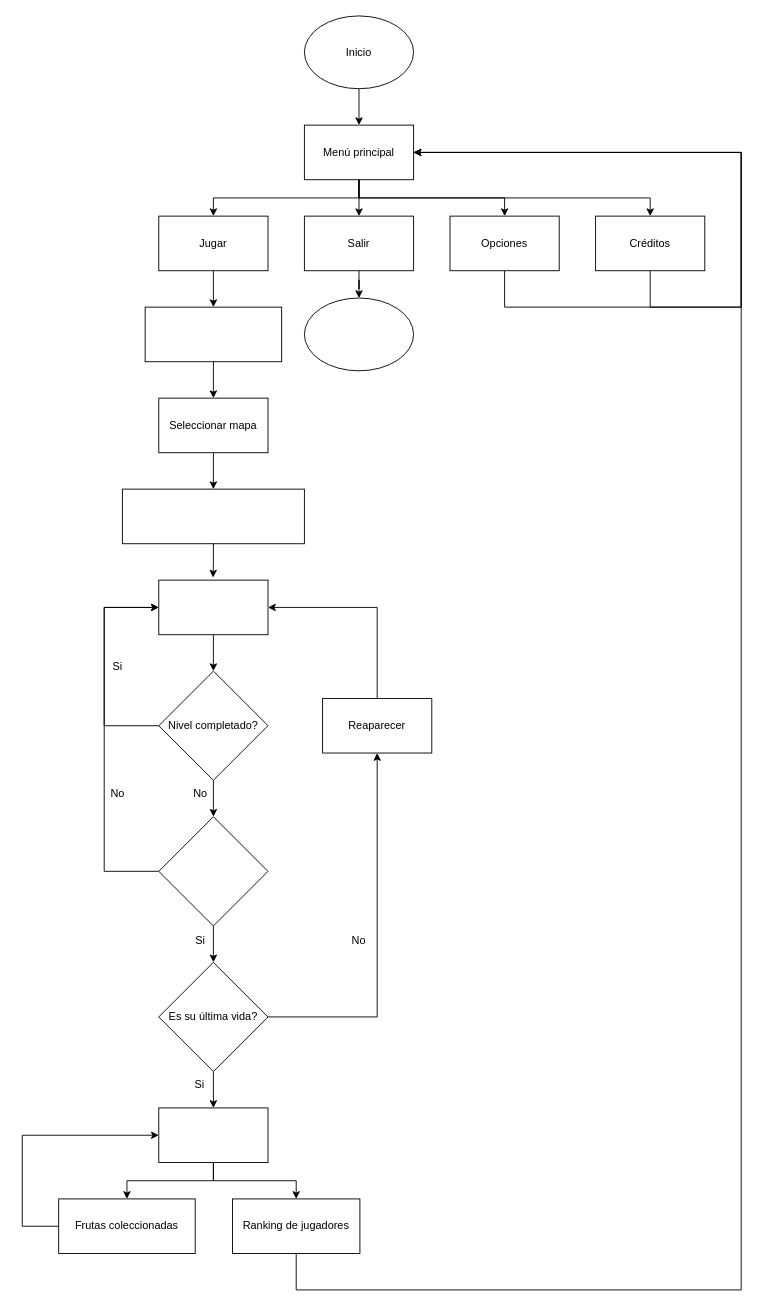
The diagram is 764 pixels wide and 1313 high, and some of its shapes have lost their labels. The shapes that lost their labels are listed below. From the top down, each one's box as (x1, y1, x2, y2) in pixels, then its label:
(144, 306, 282, 362): Seleccionar dificultad
(303, 297, 414, 371): Fin
(121, 488, 304, 544): Introducir nombre de usuario
(158, 579, 268, 635): Jugar nivel
(158, 816, 268, 926): Ha muerto?
(158, 1107, 268, 1163): Pantalla de muerte
